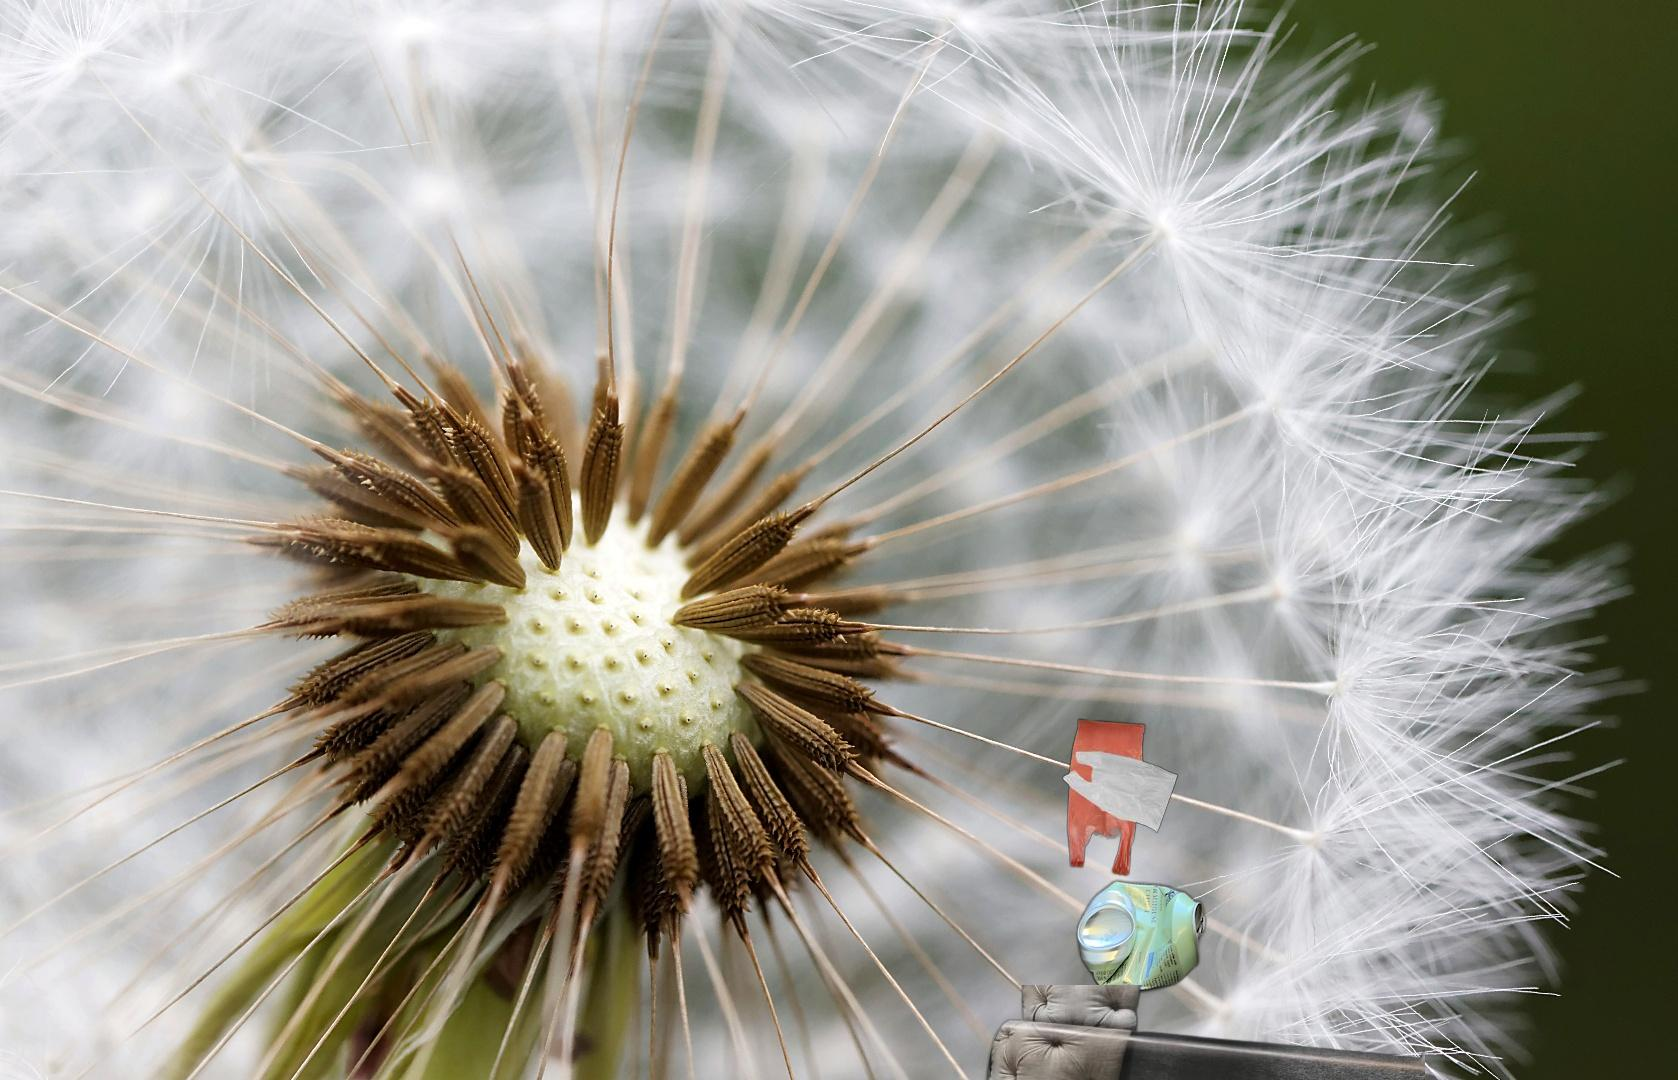metal-cans: (1072, 875, 1210, 999)
paper: (967, 985, 1425, 1080)
plastic-bag: (1062, 697, 1181, 877)
